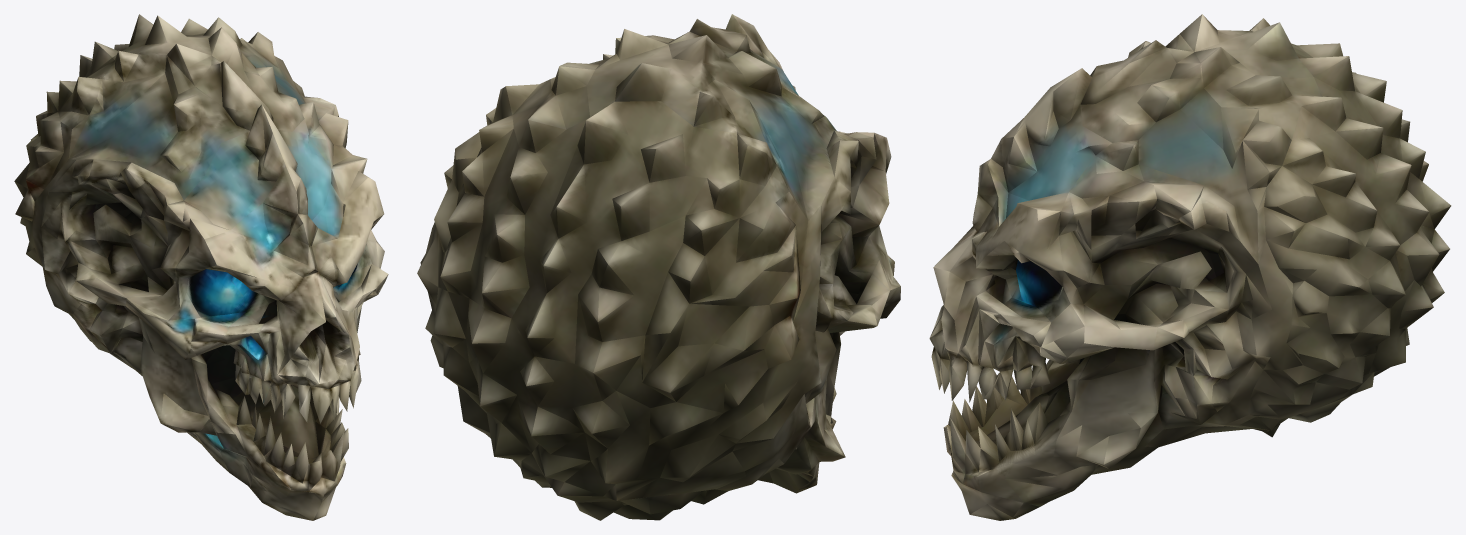
Rendered from m2DragonSkullGate.glb.
3 renders of one model, left to right at view 1: azimuth 30°, elevation 25°; view 2: azimuth 150°, elevation 25°; view 3: azimuth 270°, elevation 25°, orthographic. The views are drawn at different scales.
Visible parts, largest first — view 1: model; view 2: model; view 3: model.
Part boxes in pixels (left/top/right/bottom): model: left=14, top=14, right=388, bottom=520; model: left=417, top=14, right=900, bottom=520; model: left=929, top=14, right=1451, bottom=520.
Bounding box in the file's own units: 1.37 × 1.9 × 1.89.
1 material, 1 textured.
